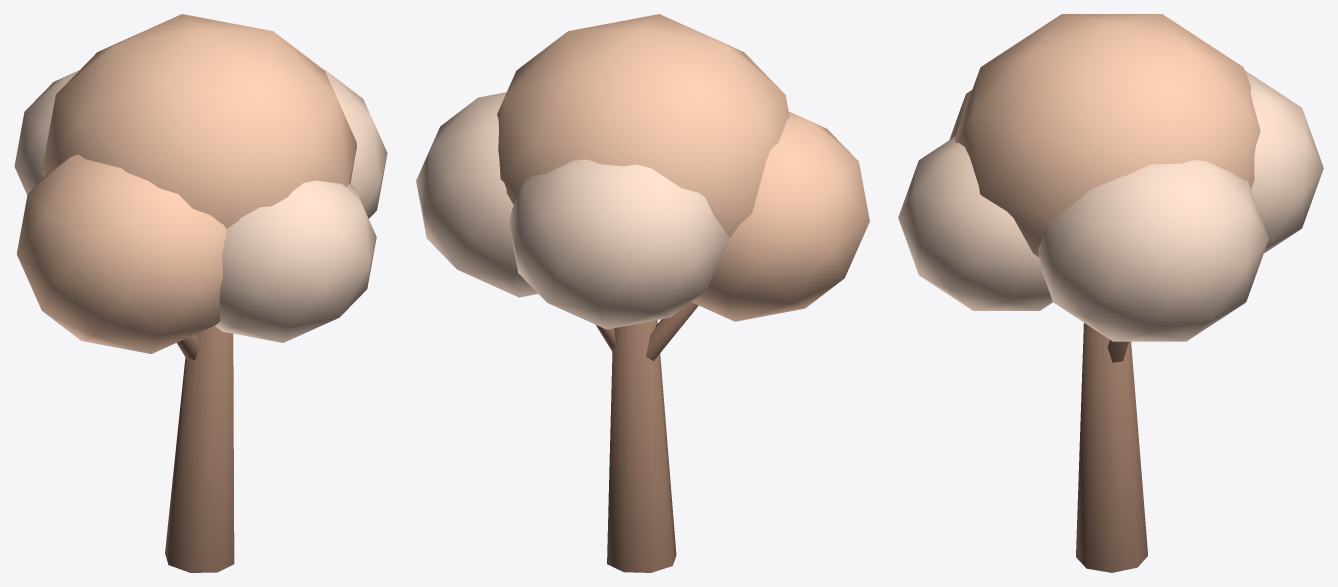
Rendered from tree_peach.glb.
3 views of the same model, side by side, from view 1: azimuth 30°, elevation 25°; view 2: azimuth 150°, elevation 25°; view 3: azimuth 270°, elevation 25° (orthographic).
Visible parts, largest first — view 1: Tree; view 2: Tree; view 3: Tree.
Boxes of the visible parts, left/top/right/bottom form: Tree: left=14, top=14, right=387, bottom=572; Tree: left=416, top=14, right=869, bottom=572; Tree: left=898, top=14, right=1323, bottom=572.
Size of the model in its own units: 2.89 by 3.91 by 2.83.
